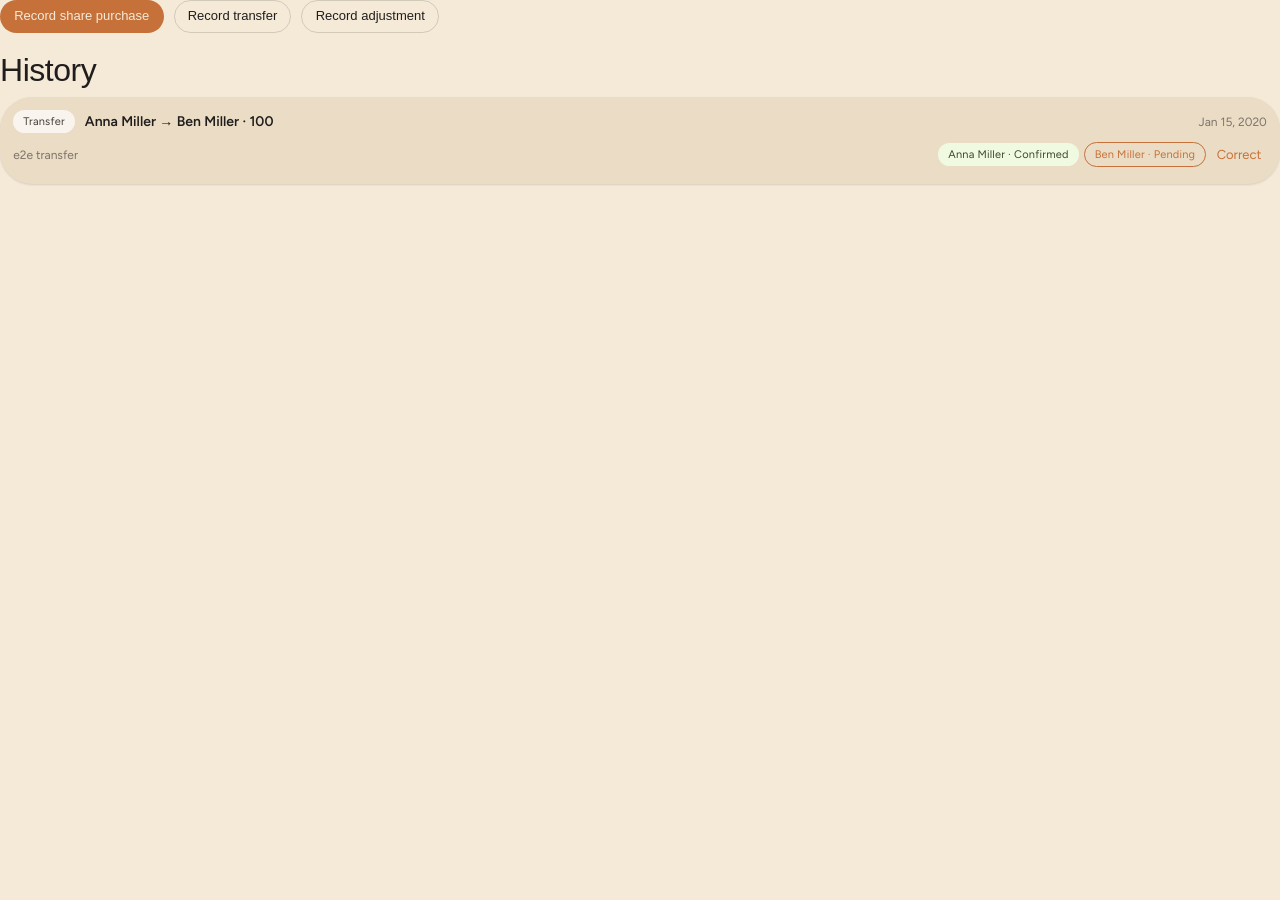
Test case: CAP-036 Transaction corrections — the form › CAP-036 · The correction form explains what will happen
Click the button "Correct" at [1239, 155], box [1211,138,1267,171]
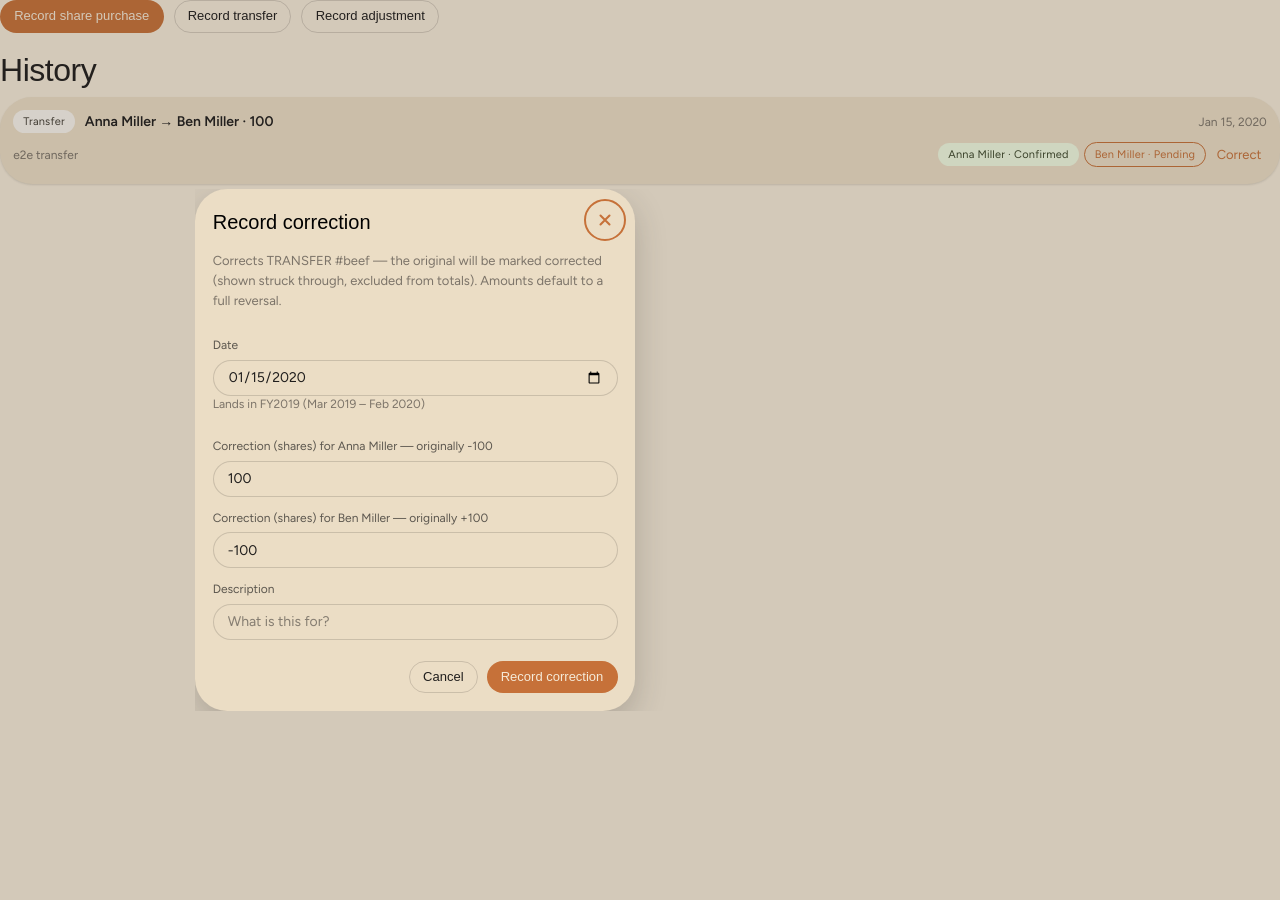
Expected: the text "the original will be marked corrected (shown struck through, excluded from totals)" is shown, [213,253,603,308]
